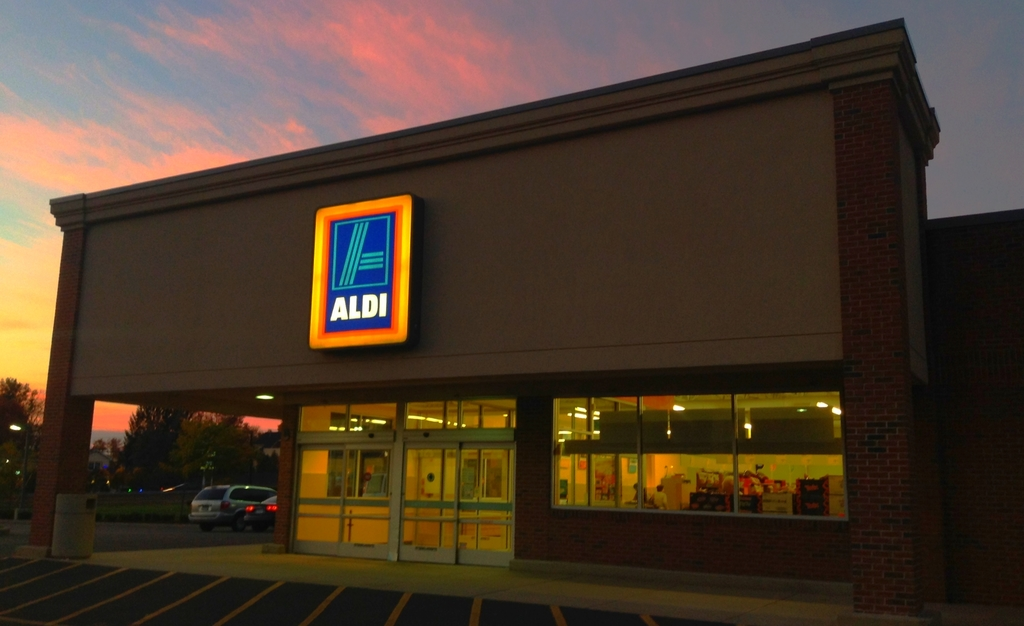Car: (168, 489, 276, 542)
